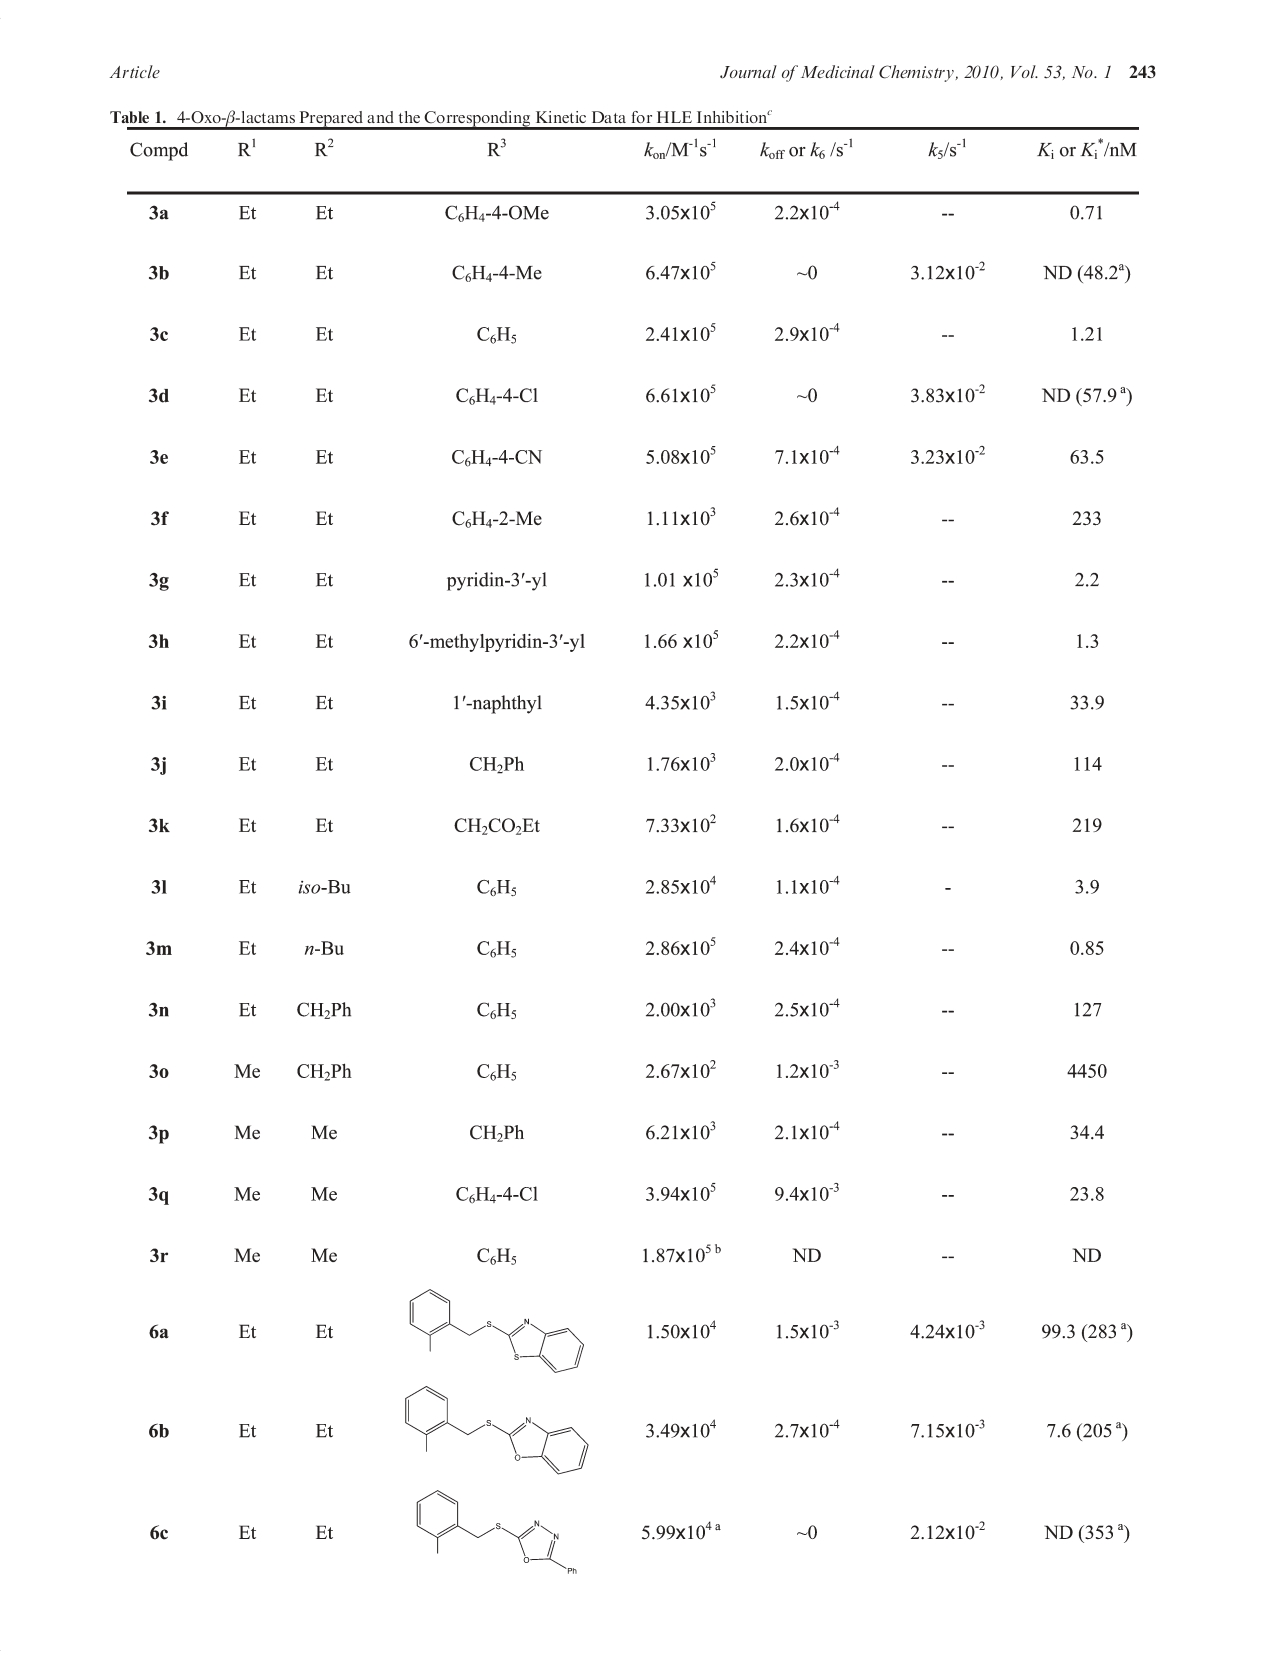exist_molecular: (403, 1384, 589, 1475), (406, 1286, 585, 1374), (414, 1488, 578, 1579)
